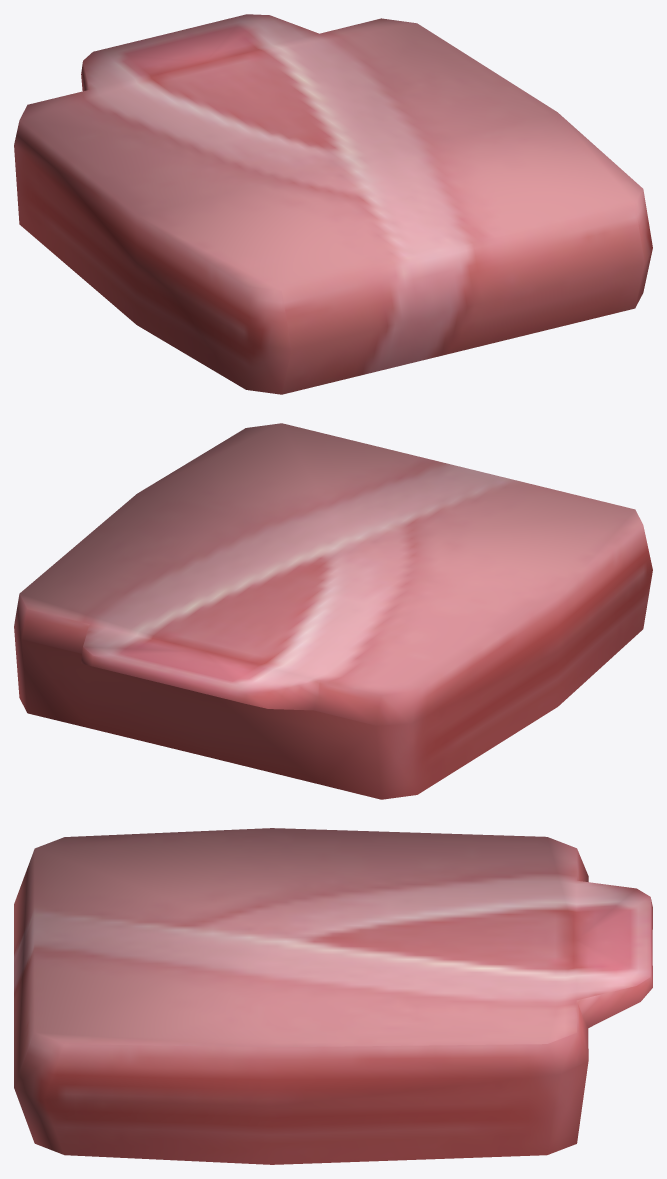
3 views of the same model, one above another, from view 1: azimuth 30°, elevation 25°; view 2: azimuth 150°, elevation 25°; view 3: azimuth 270°, elevation 25° (orthographic). The views are drawn at different scales.
Visible parts, largest first — view 1: wq_wj010_03; view 2: wq_wj010_03; view 3: wq_wj010_03.
Part boxes in pixels (bbox=[...]): wq_wj010_03: bbox=[14, 14, 652, 394]; wq_wj010_03: bbox=[14, 423, 652, 799]; wq_wj010_03: bbox=[14, 828, 652, 1164].
Bounding box in the file's own units: 66.69 × 16.79 × 82.13.
1 material, 1 textured.
